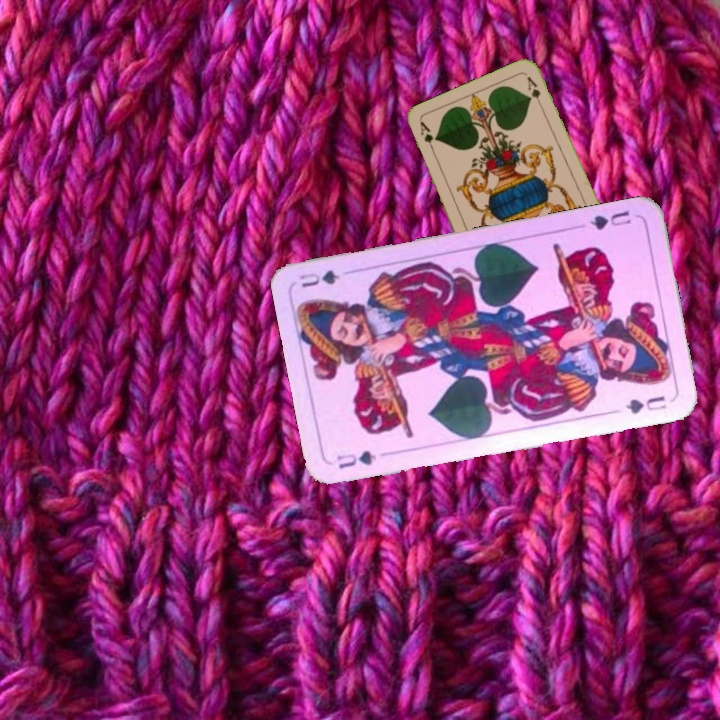GA: (416, 118, 438, 158)
GU: (586, 206, 634, 233), (332, 446, 379, 472)
